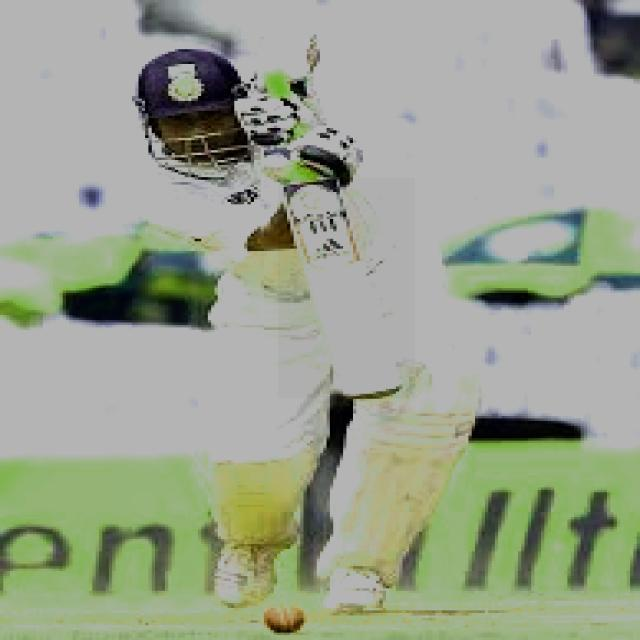bat: (284, 183, 412, 408)
toe: (326, 381, 417, 406)
